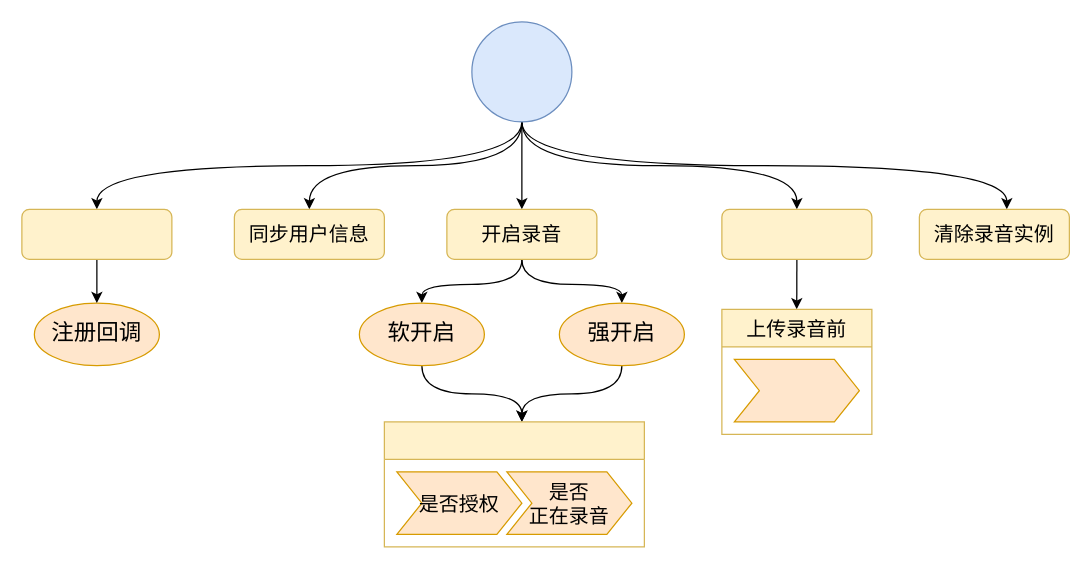
The diagram is 1091 pixels wide and 569 high, and some of its shapes have lost their labels. The box of each missing label's shape, as (x1, y1, x2, y2) in pixels:
上传录音文件: (721, 208, 872, 259)
初始化: (21, 208, 172, 259)
开启录音之前: (383, 421, 644, 547)
录音类: (471, 21, 572, 122)
是否 WIFI环境: (733, 358, 859, 422)
